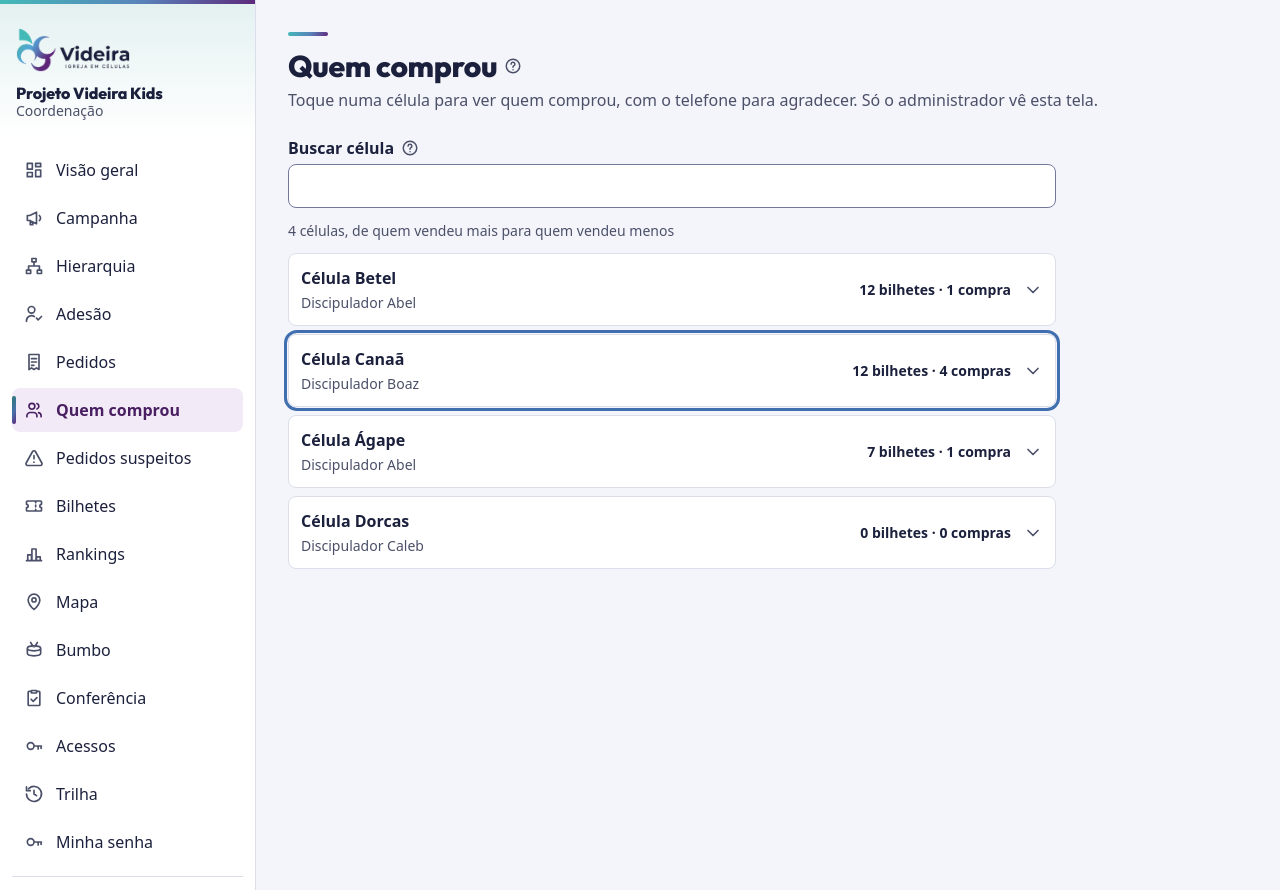
Test: Quem comprou (só o admin) › uma célula aberta por vez: abrir outra fecha a anterior; tocar de novo fecha e tira a célula da URL
Expected: the heading "Quem comprou" is shown, [288,48,497,84]
What coordinates should you click on to do the following:
click the button "Célula Canaã Discipulador Boaz 12 bilhetes · 4 compras"
I would click on:
 (353, 359)
Its box is [289,335,1055,406].
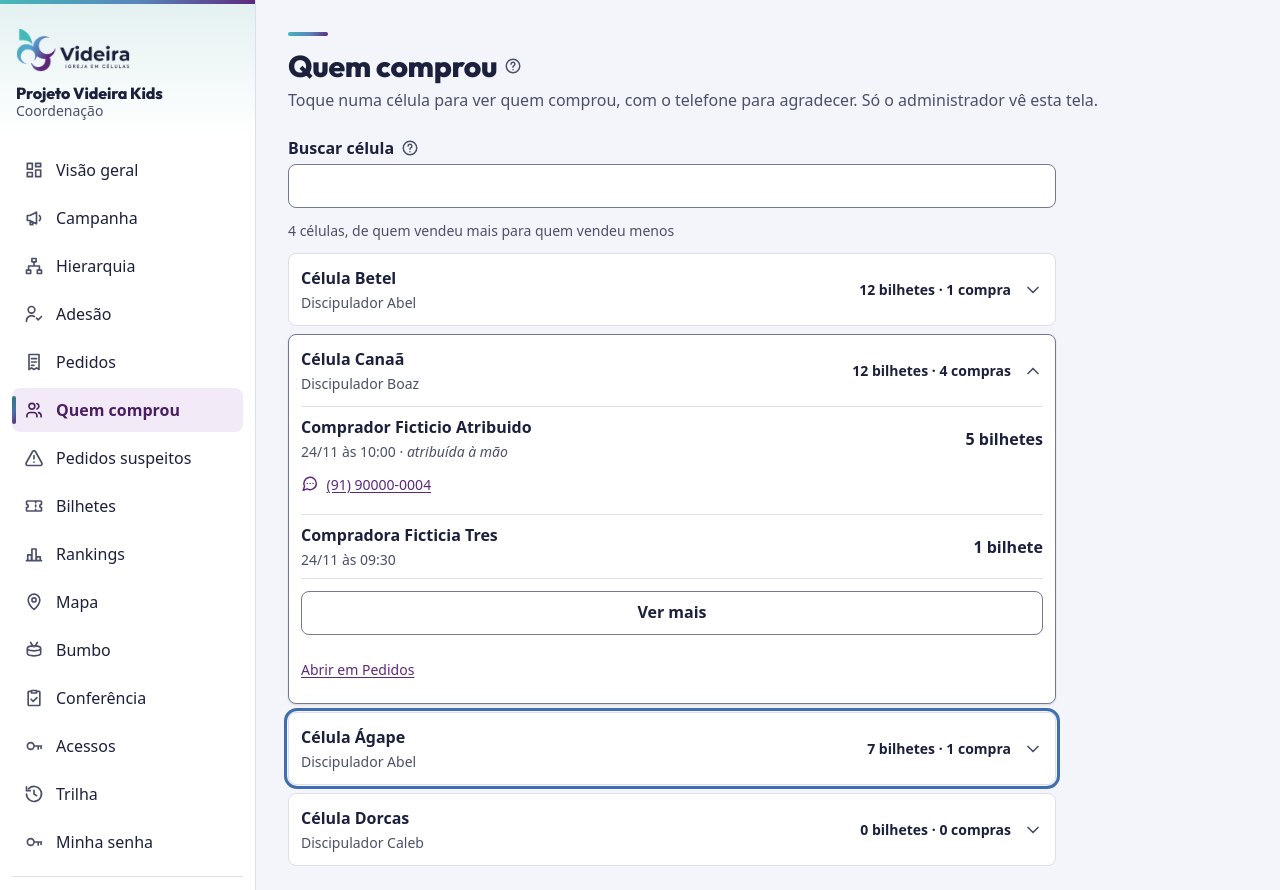
Now the element named "Compras da Célula Canaã" is shown, box [289,406,1055,703]
What coordinates should you click on to do the following:
click the button "Célula Ágape Discipulador Abel 7 bilhetes · 1 compra"
I would click on:
 (353, 737)
Its box is [289,713,1055,784].
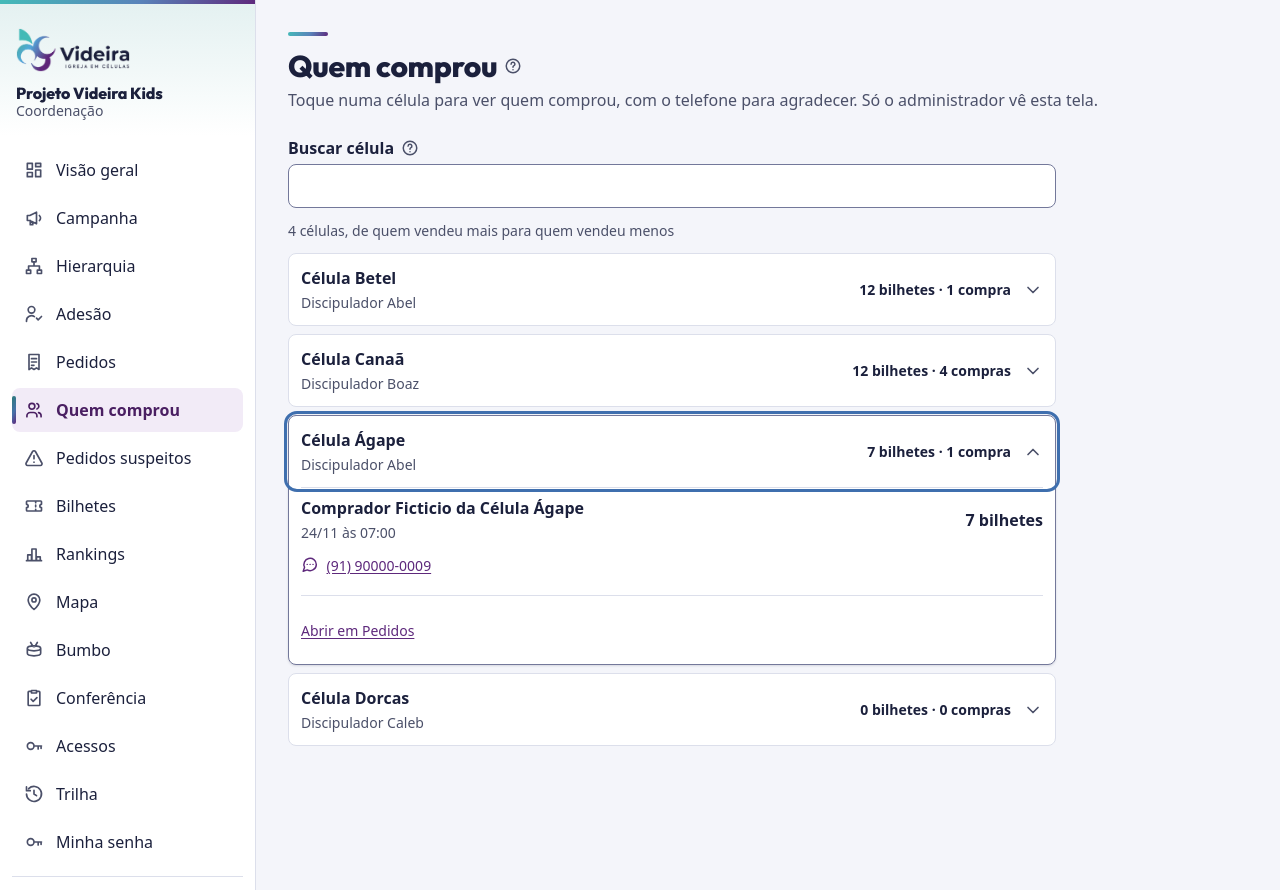
Now the text "Comprador Ficticio da Célula Ágape" is shown, box [301,497,584,519]
What coordinates should you click on to do the following:
click the button "Célula Ágape Discipulador Abel 7 bilhetes · 1 compra"
I would click on:
 (353, 440)
Its box is [289,416,1055,487].
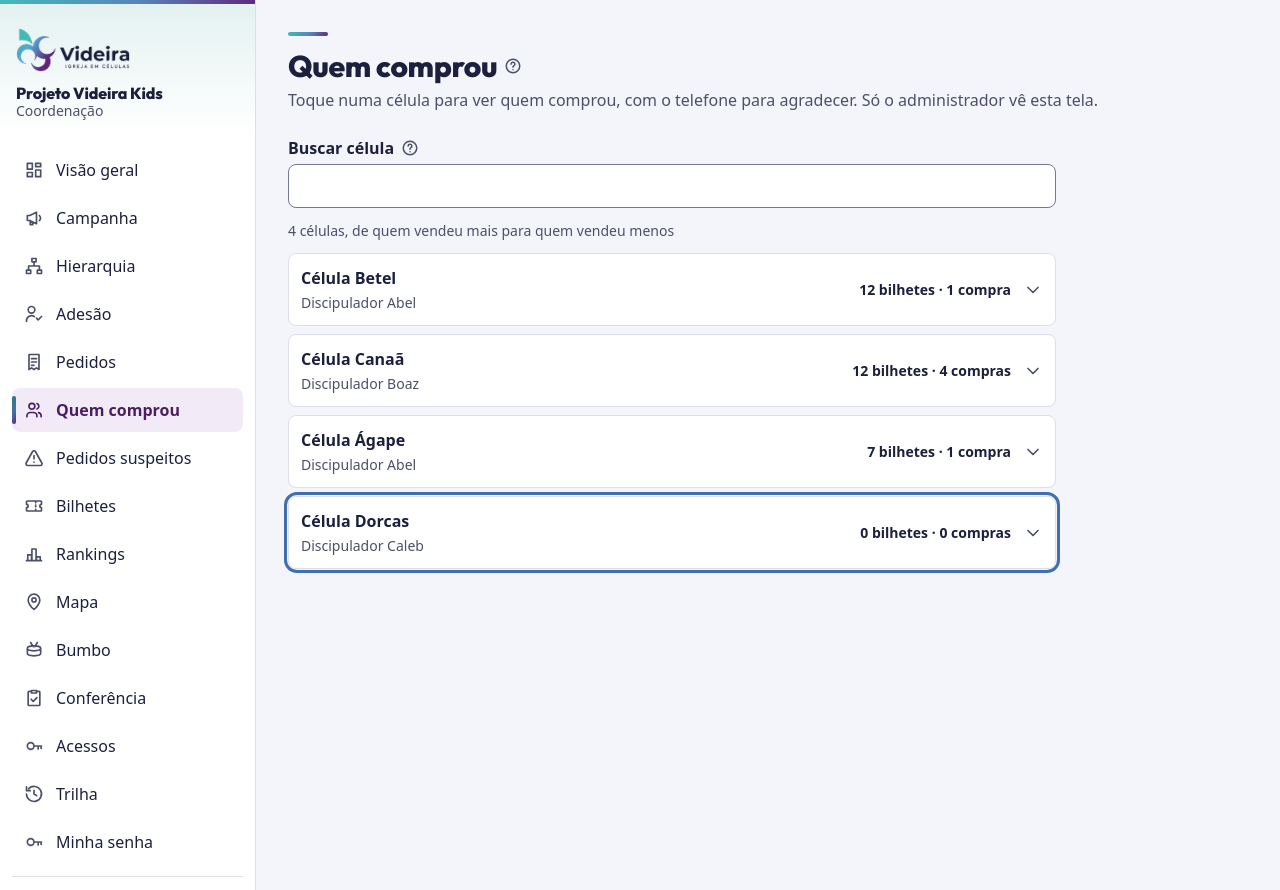
What coordinates should you click on to do the following:
click the button "Célula Dorcas Discipulador Caleb 0 bilhetes · 0 compras"
I would click on:
 (355, 521)
Its box is [289,497,1055,568].
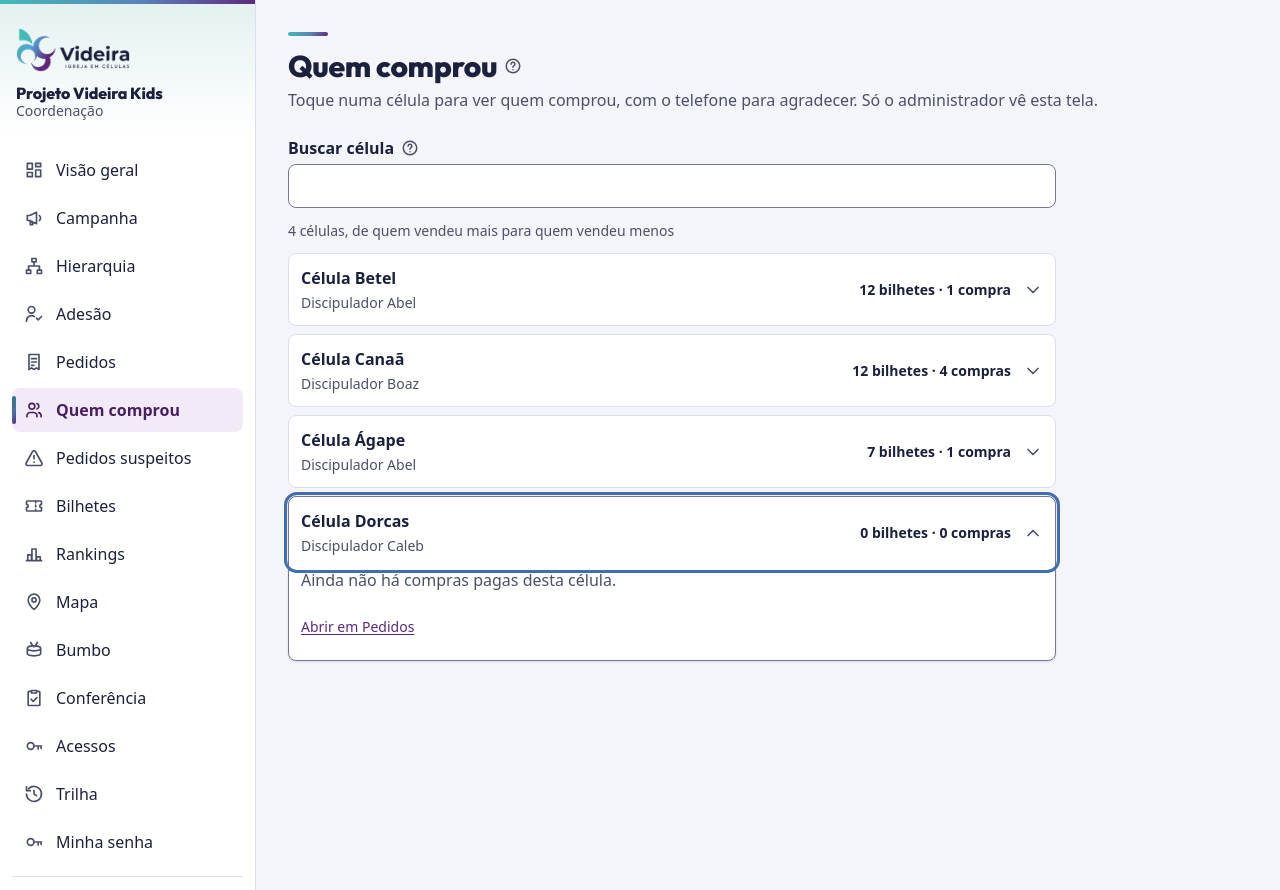
Now the text "Ainda não há compras pagas desta célula." is shown, box [301,569,616,591]
